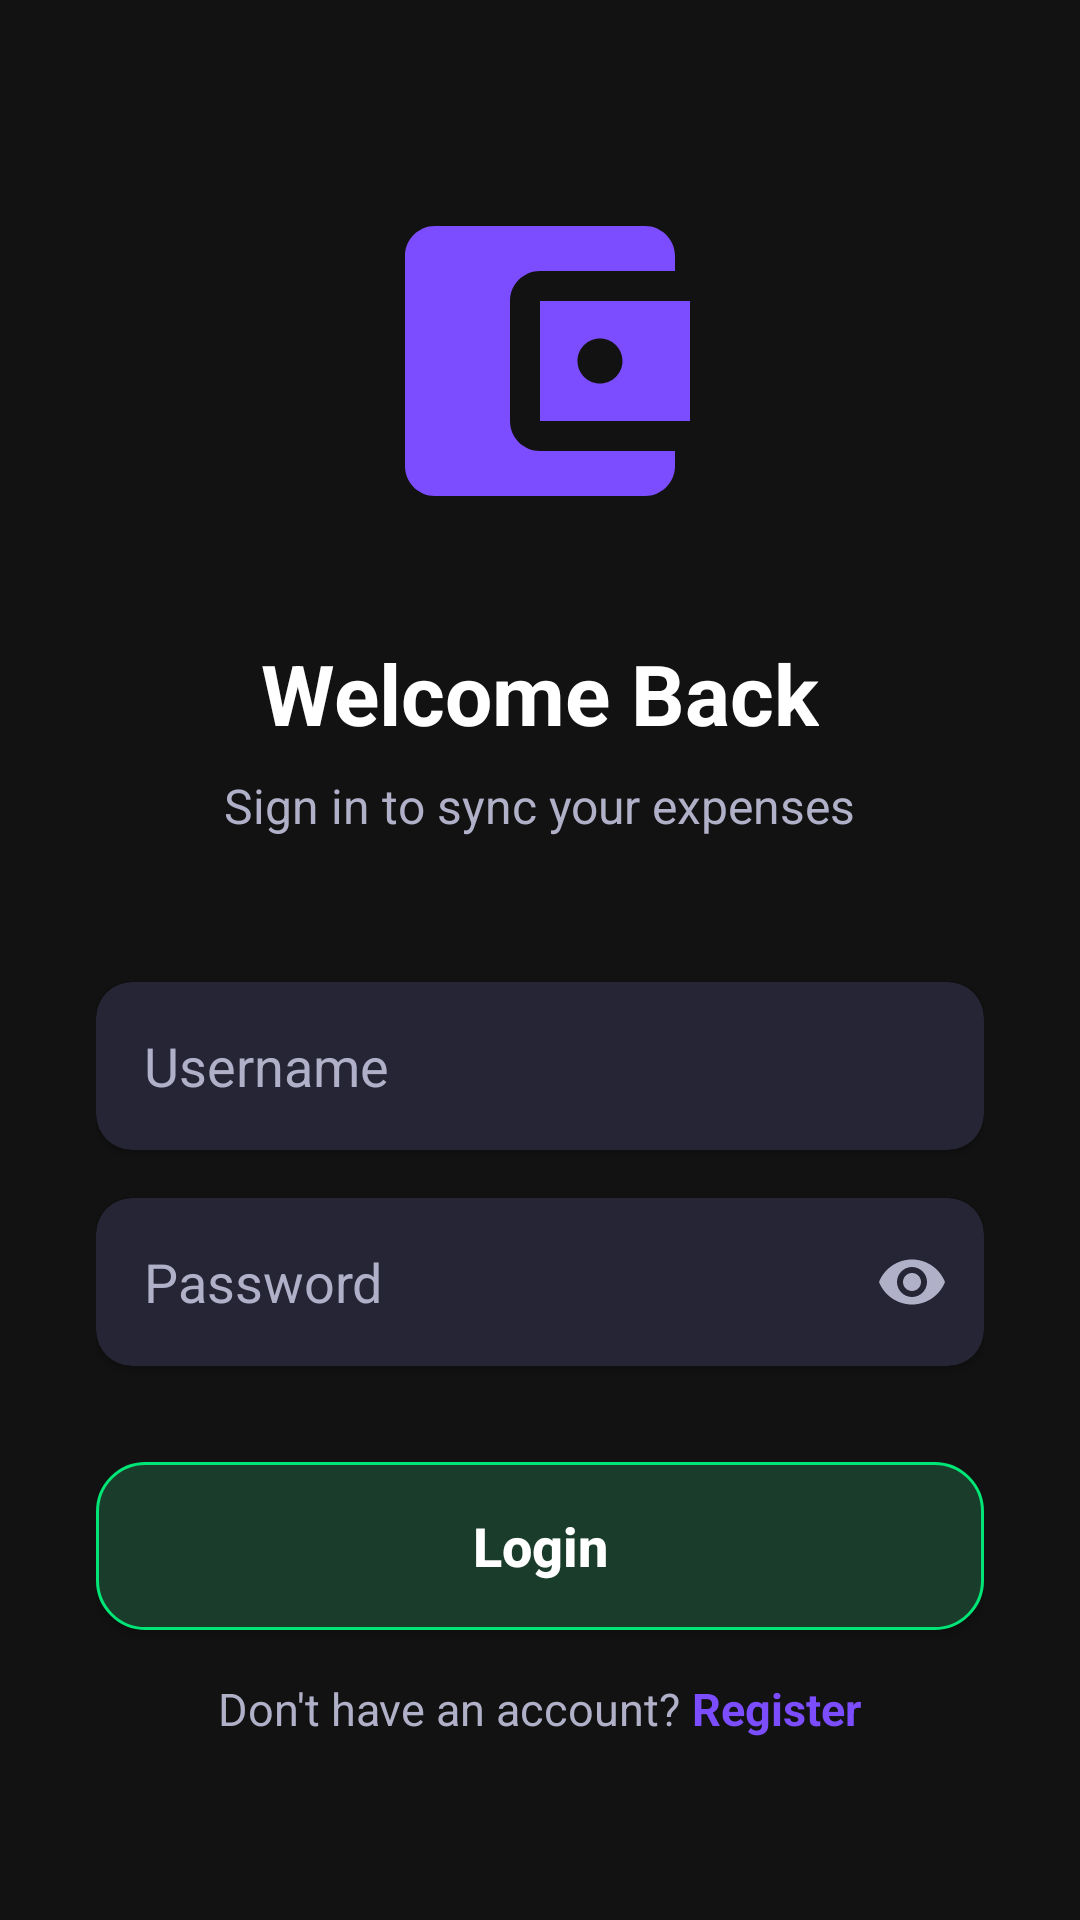

Icon click points for this 1080×1920 phone screenshot, format (x,y):
wallet: (547,361)
